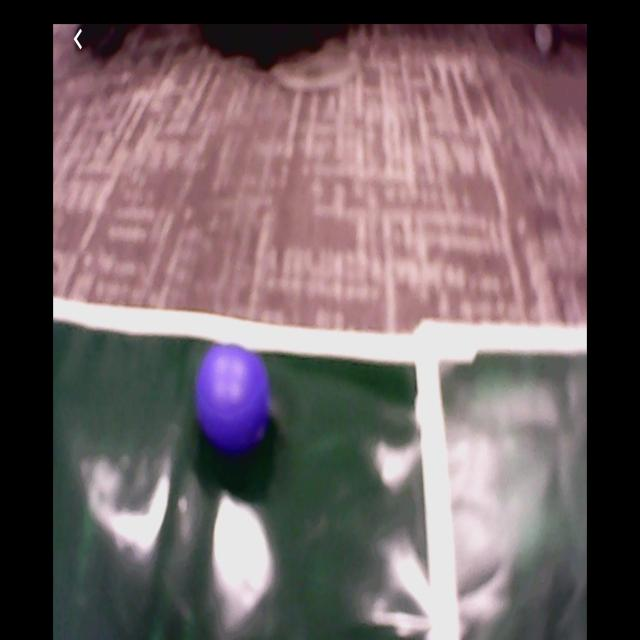ball: (198, 345, 264, 444)
